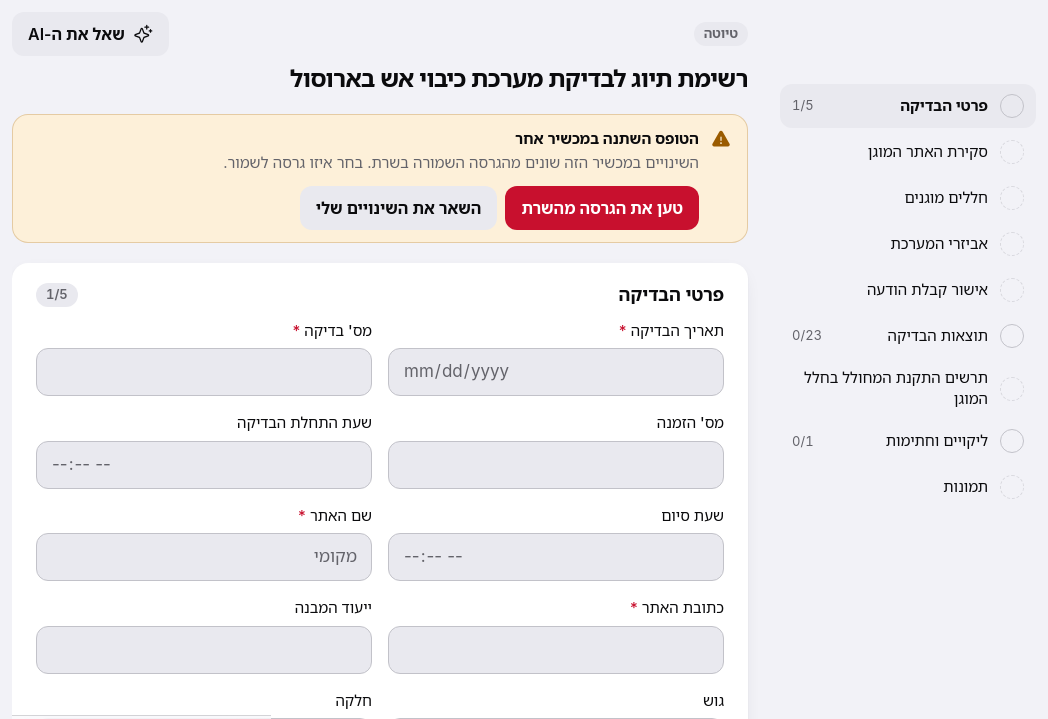
Test case: FormFiller conflicts › a device copy based on another version shows the choice and keeps both
This screenshot has width=1048, height=719.
Check: the text "הטופס השתנה במכשיר אחר" is shown, box [515, 129, 699, 148]
Check: the field labelled "שם האתר" holds "מקומי", box [36, 533, 372, 581]
Click the button "טען את הגרסה מהשרת" at [602, 208], box [505, 186, 699, 230]
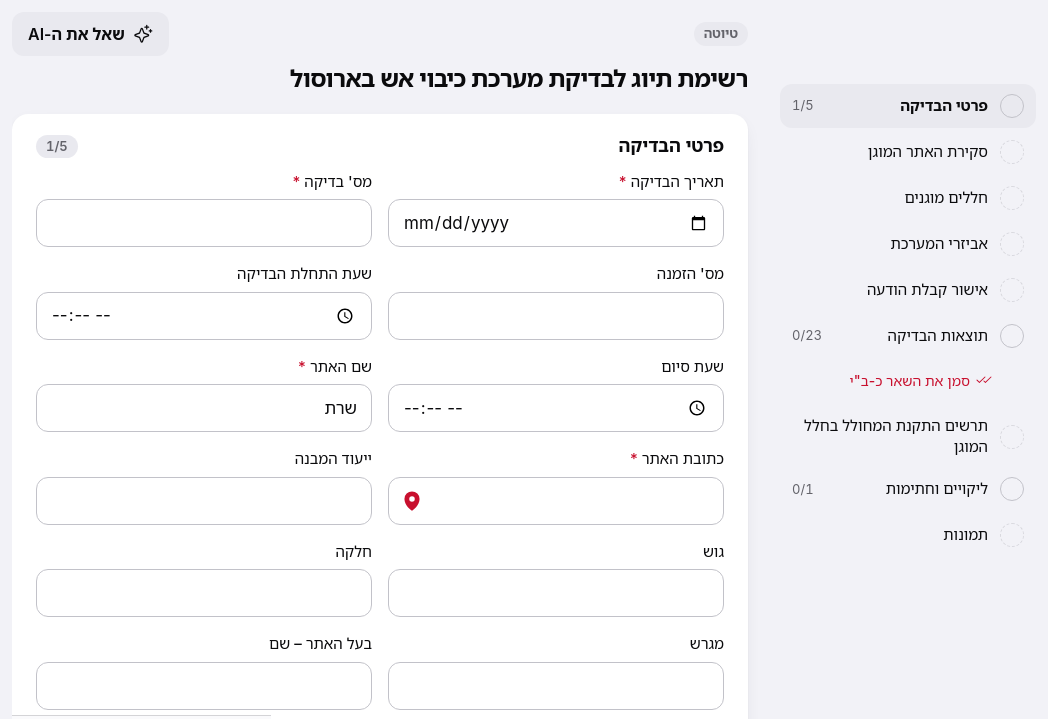
Check: the field labelled "שם האתר" holds "שרת", box [36, 384, 372, 432]
